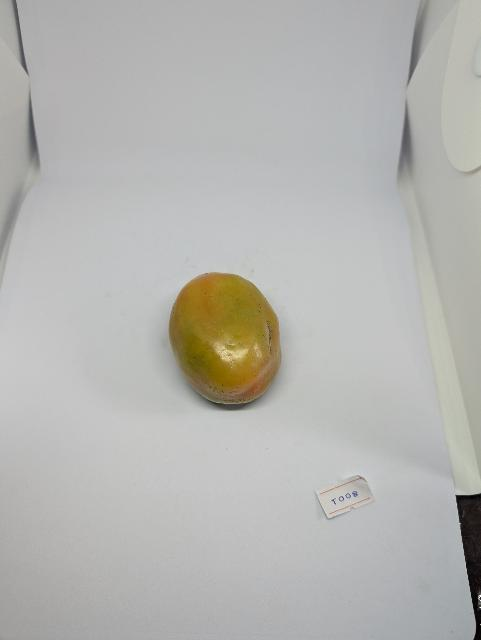breaker: (164, 264, 295, 423)
